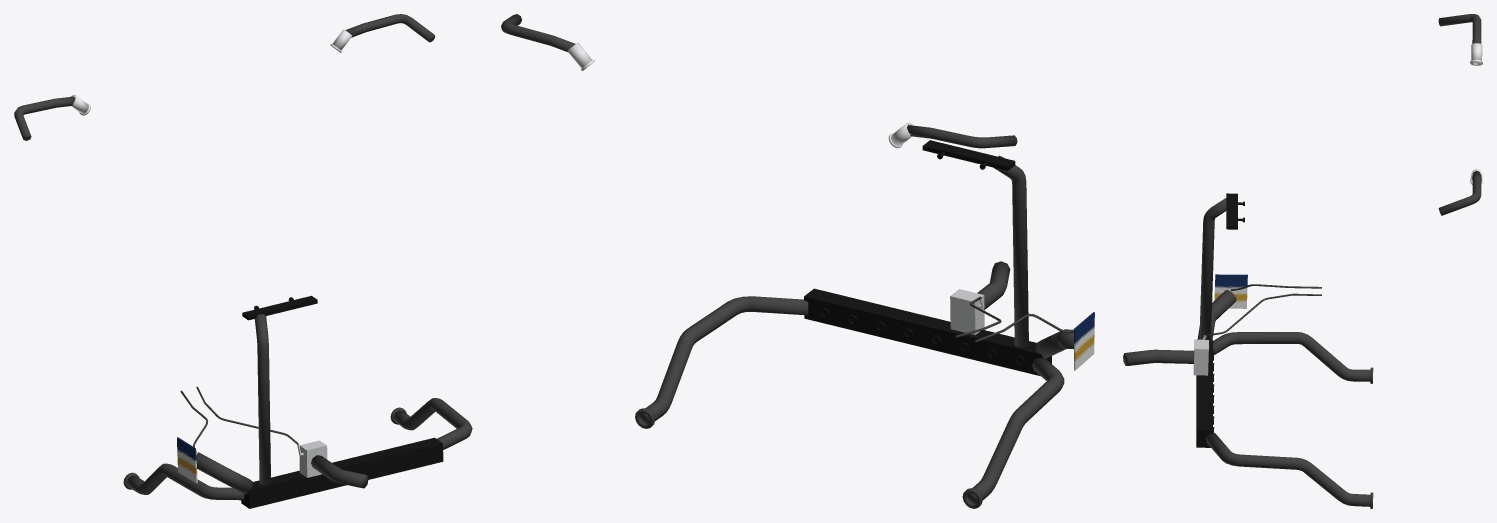
File: CABIN_AIR.glb
3 renders of one model, left to right at view 1: azimuth 30°, elevation 25°; view 2: azimuth 150°, elevation 25°; view 3: azimuth 270°, elevation 25°, orthographic. The views are drawn at different scales.
Visible parts, largest first — view 1: CABIN_AIR.manifold, CABIN_AIR.defroster_duct, CABIN_AIR.rear_duct_R, CABIN_AIR.rear_duct_L, CABIN_AIR.ventilating_air_duct, WING_L.ventilator_duct, CABIN_AIR.heat_hose, WING_R.ventilator_duct, CABIN_AIR.heater_valve, CABIN_AIR.defroster_outlet, CABIN_AIR.ventilating_air_door; view 2: CABIN_AIR.manifold, CABIN_AIR.rear_duct_L, CABIN_AIR.rear_duct_R, CABIN_AIR.defroster_duct, CABIN_AIR.heater_valve, WING_R.ventilator_duct, CABIN_AIR.defroster_outlet, WING_L.ventilator_duct, CABIN_AIR.ventilating_air_door, CABIN_AIR.heat_hose, CABIN_AIR.ventilating_air_duct; view 3: CABIN_AIR.rear_duct_L, CABIN_AIR.rear_duct_R, CABIN_AIR.defroster_duct, CABIN_AIR.manifold, CABIN_AIR.heat_hose, CABIN_AIR.ventilating_air_door, WING_L.ventilator_duct, WING_R.ventilator_duct, CABIN_AIR.heater_valve, CABIN_AIR.ventilating_air_duct, CABIN_AIR.defroster_outlet.
Part boxes in pixels (x1,y1,x2,y2): CABIN_AIR.manifold: (241,437,443,508); CABIN_AIR.defroster_duct: (254,314,270,484); CABIN_AIR.rear_duct_R: (123,463,244,500); CABIN_AIR.rear_duct_L: (390,398,472,449); CABIN_AIR.ventilating_air_duct: (196,452,252,494); WING_L.ventilator_duct: (345,14,434,42); CABIN_AIR.heat_hose: (311,455,368,488); WING_R.ventilator_duct: (14,96,75,140); CABIN_AIR.heater_valve: (297,440,327,477); CABIN_AIR.defroster_outlet: (242,295,317,320); CABIN_AIR.ventilating_air_door: (177,437,197,483); CABIN_AIR.manifold: (804,288,1051,376); CABIN_AIR.rear_duct_L: (635,296,808,428); CABIN_AIR.rear_duct_R: (962,358,1064,508); CABIN_AIR.defroster_duct: (993,155,1028,347); CABIN_AIR.heater_valve: (950,289,984,335); WING_R.ventilator_duct: (907,125,1017,148); CABIN_AIR.defroster_outlet: (922,140,1015,170); WING_L.ventilator_duct: (501,14,575,52); CABIN_AIR.ventilating_air_door: (1074,312,1094,370); CABIN_AIR.heat_hose: (977,261,1010,309); CABIN_AIR.ventilating_air_duct: (1036,329,1073,358); CABIN_AIR.rear_duct_L: (1205,432,1373,508); CABIN_AIR.rear_duct_R: (1213,332,1373,383); CABIN_AIR.defroster_duct: (1199,198,1226,350); CABIN_AIR.manifold: (1196,339,1214,447); CABIN_AIR.heat_hose: (1123,349,1194,365); CABIN_AIR.ventilating_air_door: (1214,274,1247,308); WING_L.ventilator_duct: (1438,170,1481,215); WING_R.ventilator_duct: (1438,14,1481,43); CABIN_AIR.heater_valve: (1193,335,1208,375); CABIN_AIR.ventilating_air_duct: (1197,290,1236,341); CABIN_AIR.defroster_outlet: (1226,193,1244,229).
Size of the model in its own units: 1.43 by 1.18 by 1.12.
Materials: 5 (2 with a texture image).
